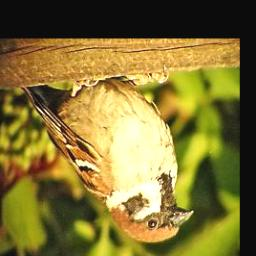Sparrow: (22, 64, 197, 245)
